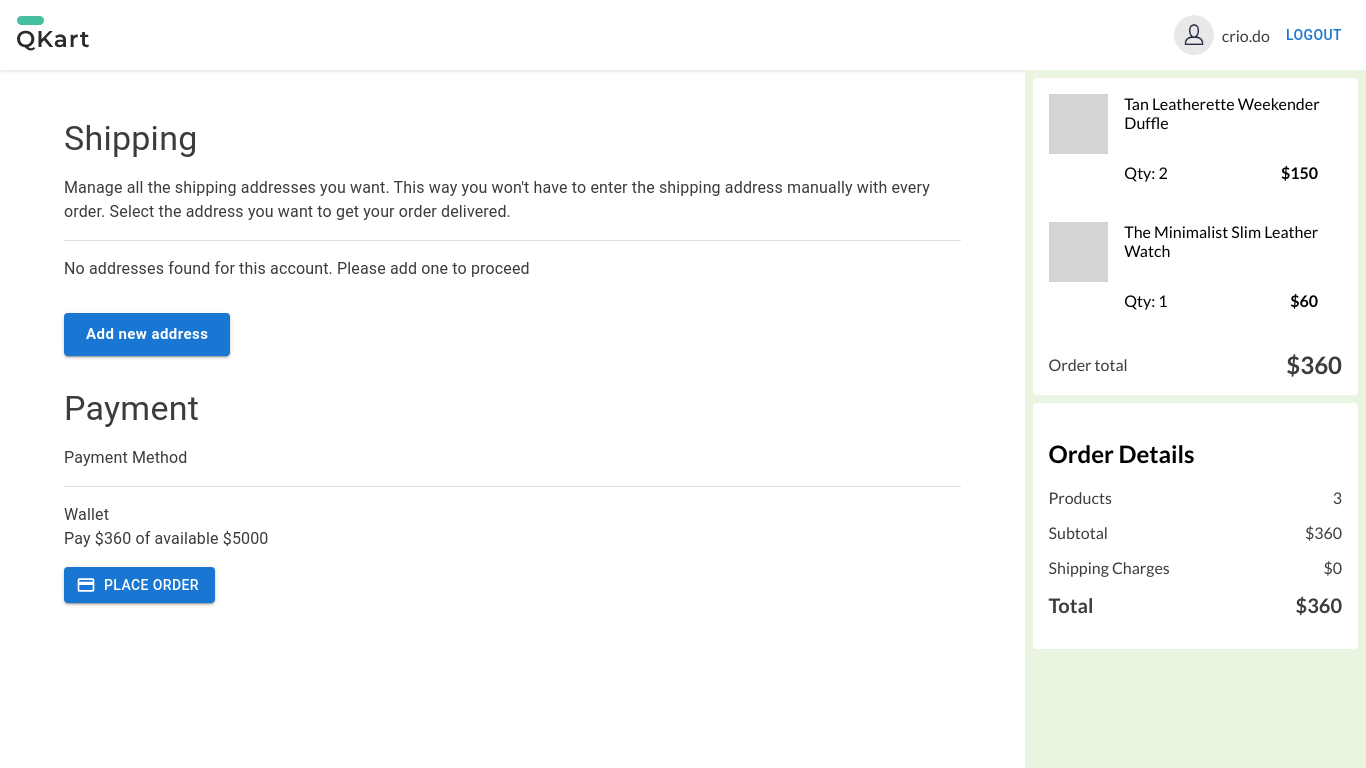
Test: Checkout Page › has add new address button which shows textfield with action buttons
Step 1. Click the button "Add new address" → (147, 335), box [64,313,230,356]
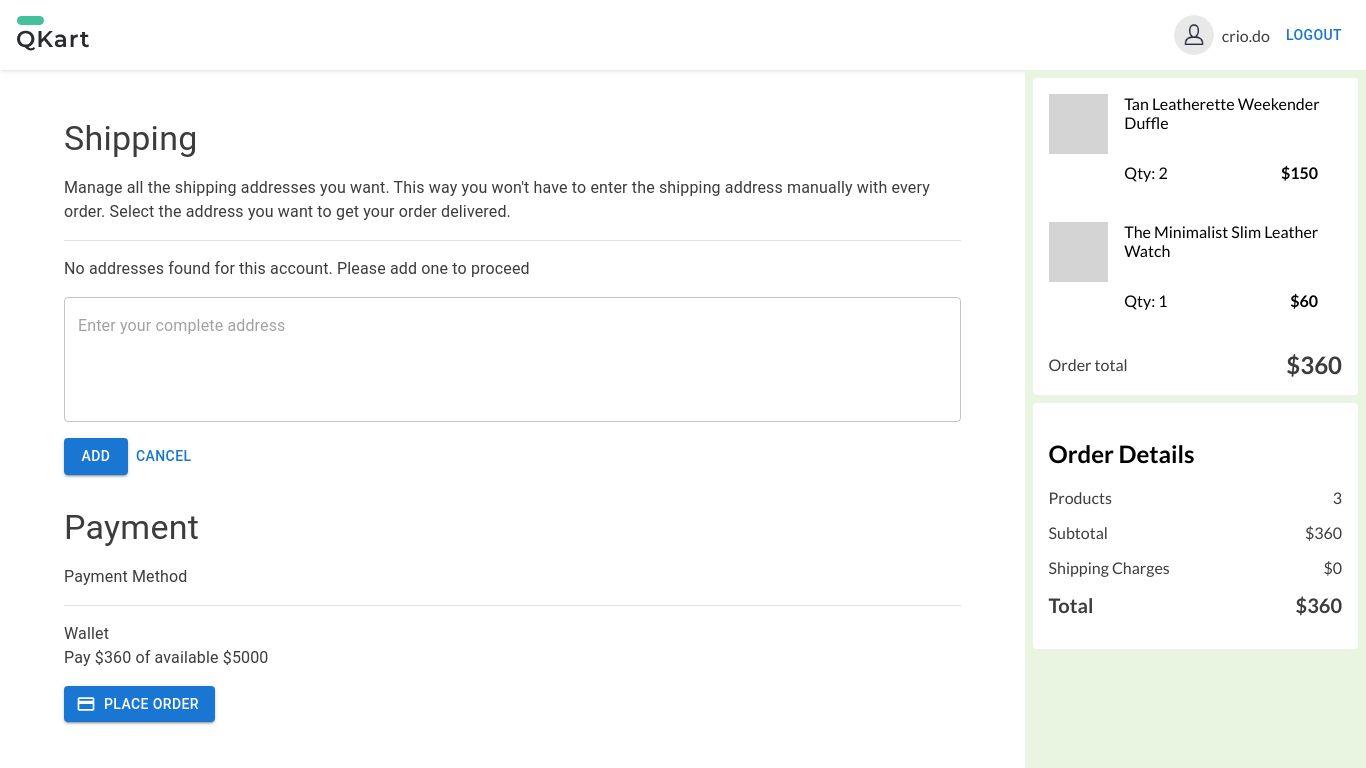
expect the button "Add" is shown: met, box [64,438,128,475]
expect the text box with placeholder "Enter your complete address" is shown: met, box [78,314,946,406]
expect the button "Cancel" is shown: met, box [128,438,200,475]
